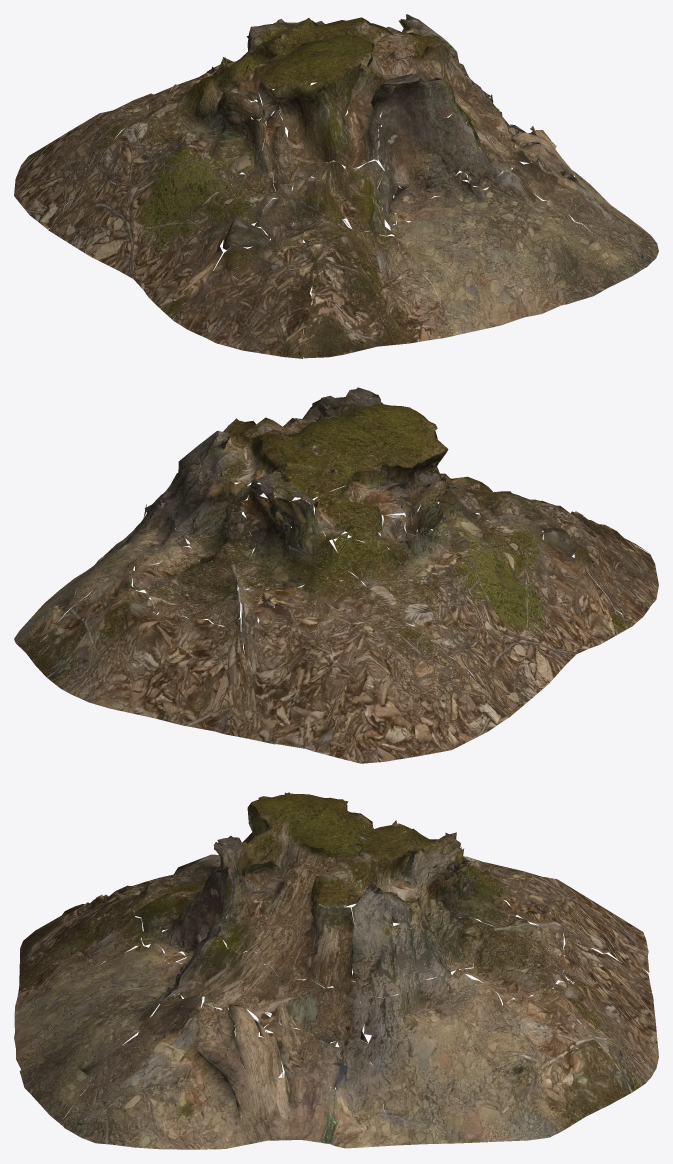
File: tree_stump_01.glb
3 renders of one model, top to bottom at view 1: azimuth 30°, elevation 25°; view 2: azimuth 150°, elevation 25°; view 3: azimuth 270°, elevation 25°, orthographic. The views are drawn at different scales.
Visible parts, largest first — view 1: tree_stump_01; view 2: tree_stump_01; view 3: tree_stump_01.
Boxes of the visible parts, left/top/right/bottom form: tree_stump_01: left=14, top=14, right=658, bottom=358; tree_stump_01: left=14, top=387, right=658, bottom=763; tree_stump_01: left=14, top=792, right=658, bottom=1149.
Bounding box in the file's own units: 1.42 × 0.5721 × 1.59.
1 material, 1 textured.
